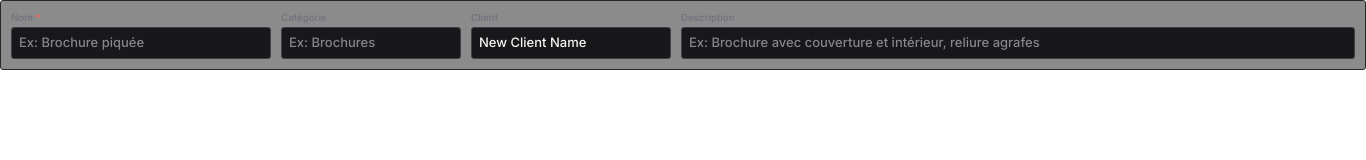
JcfTemplateHeaderForm › shows session-learned client suggestions
The image size is (1366, 160).
Note: Focus to reopen dropdown
Focus the field labelled "Client": {"x": 571, "y": 43} [471,27,671,58]
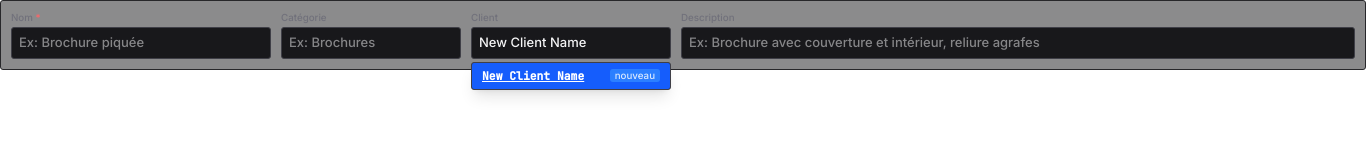
Now the text "New Client Name" is shown, box [482,68,584,82]
